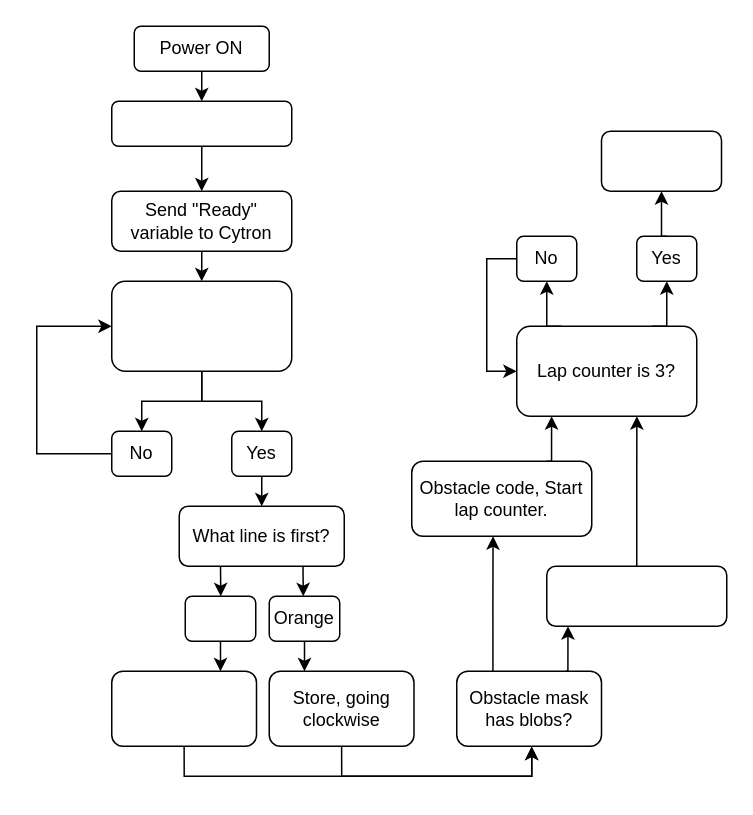
The diagram is 753 pixels wide and 815 high, and some of its shapes have lost their labels. Each missing label, with the centre of its shape:
Blue: pixel 220 618
Boot camera: pixel 201 123
Is "Ready" variable from Cytron "1"?: pixel 201 325
Start counter for laps: pixel 636 595
Stop.: pixel 661 160
Store, going counterclockwise: pixel 183 708
